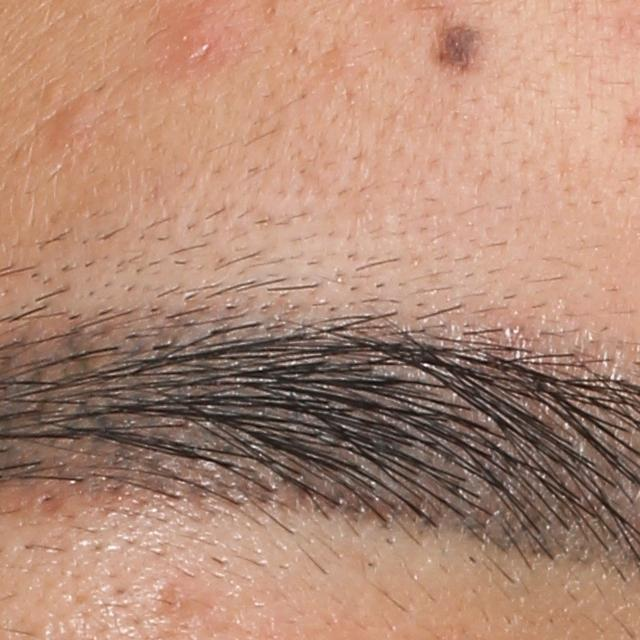nevus: (425, 8, 493, 70)
papule: (54, 98, 99, 135)
